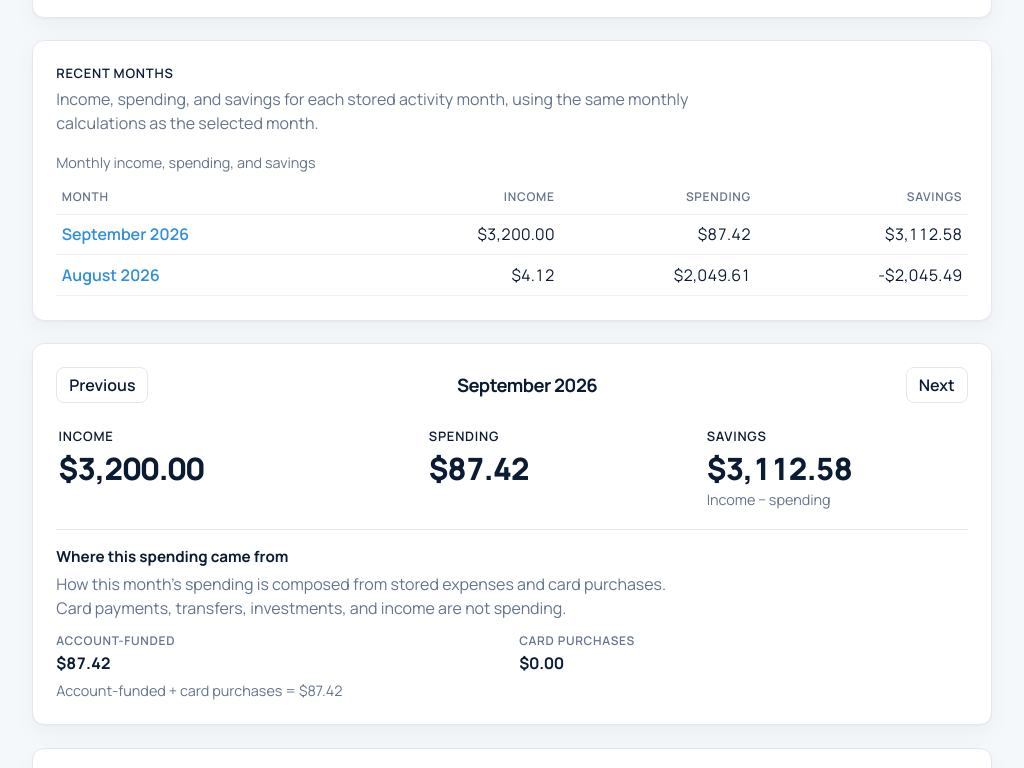
Test: Finora spending view › moves to the previous month using the existing calculations
(page scrolled)
Click the button with aria-label "Previous month" at {"x": 102, "y": 385}, box [56, 367, 148, 403]
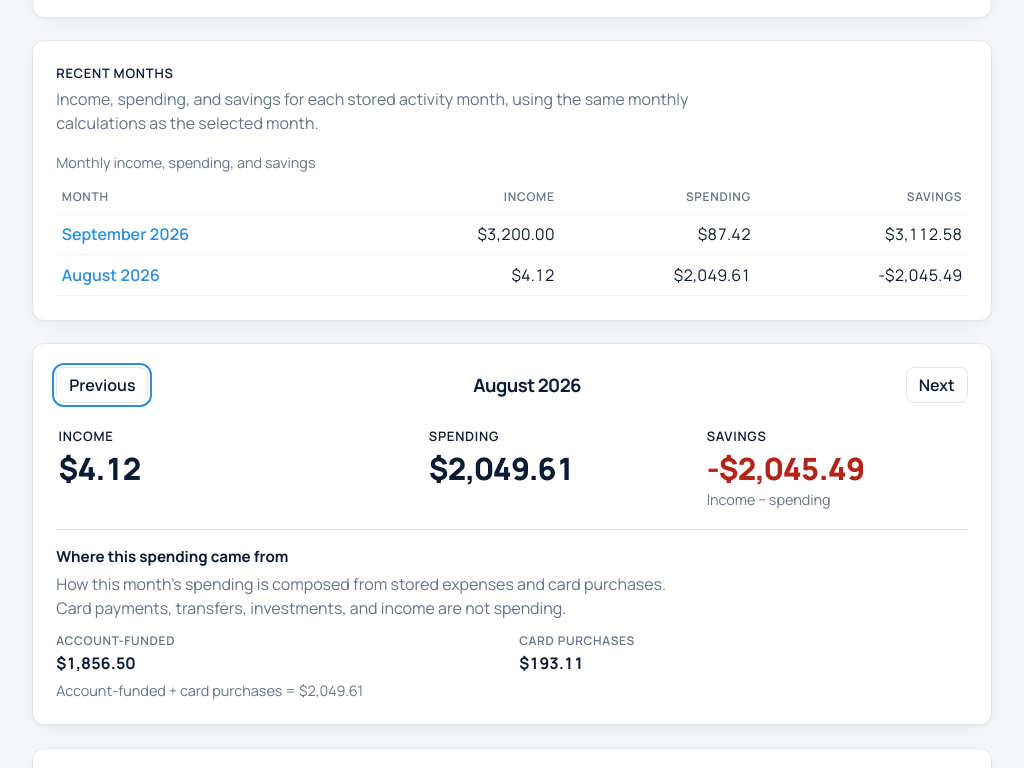
Expected: the heading "August 2026" is shown, [473, 372, 581, 398]
Expected: the text "$4.12" is shown, [59, 447, 141, 489]
Expected: the text "$2,049.61" is shown, [429, 447, 574, 489]
